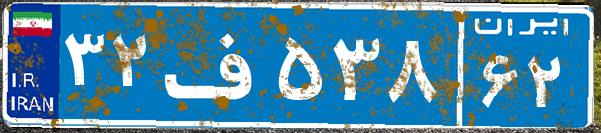2: (110, 28, 158, 105), (525, 38, 570, 115)
3: (330, 28, 385, 110), (57, 26, 110, 107)
5: (273, 28, 330, 110)
6: (475, 38, 525, 113)
8: (385, 28, 445, 110)
ف: (158, 15, 273, 115)
